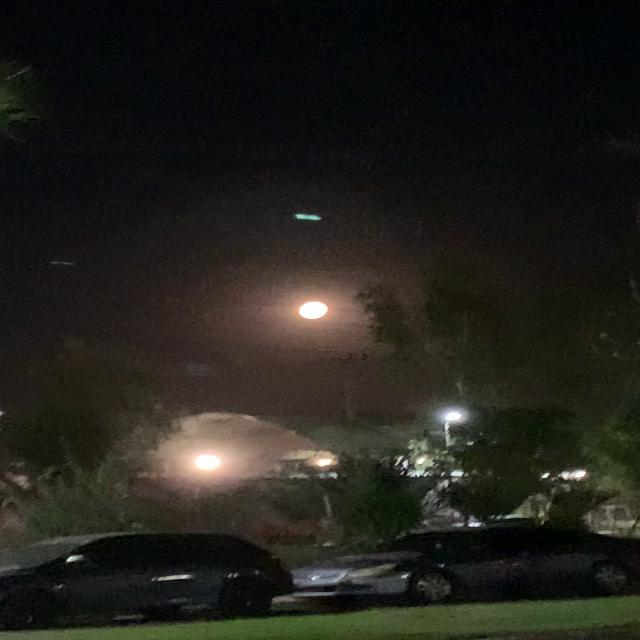moon: (292, 291, 344, 317)
